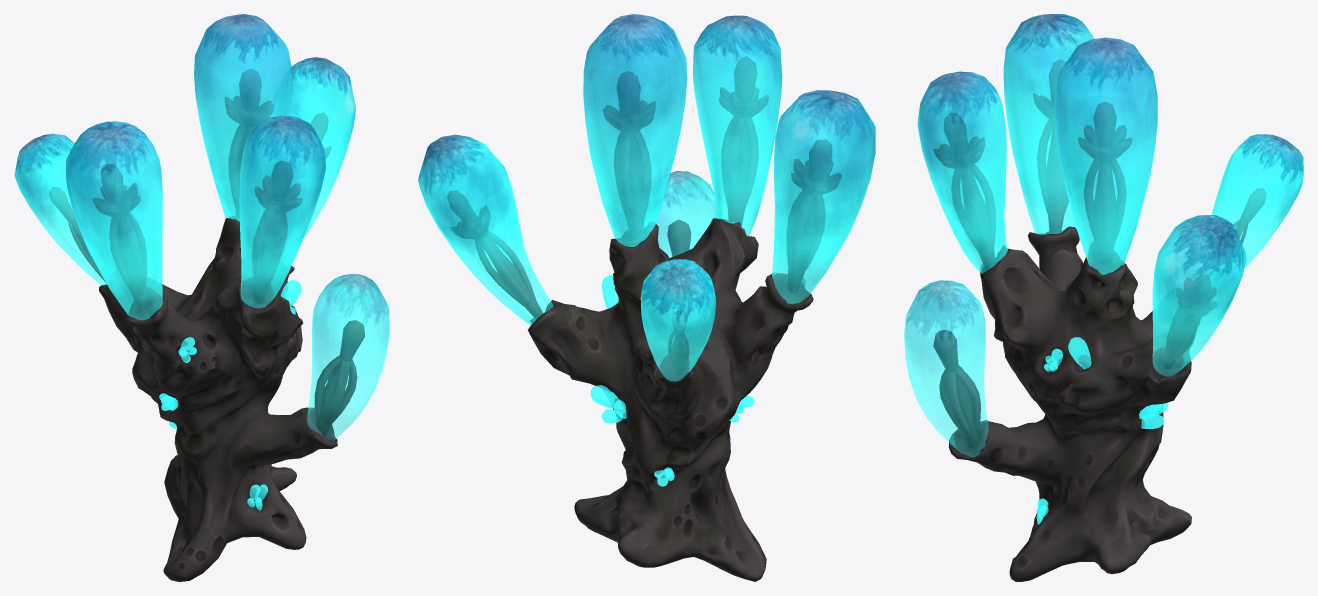
Rendered from space_plant.glb.
The picture shows the model from 3 angles, left to right: view 1: azimuth 30°, elevation 25°; view 2: azimuth 150°, elevation 25°; view 3: azimuth 270°, elevation 25°; orthographic projection. The views are drawn at different scales.
Visible parts, largest first — view 1: BigBulbs_LP, TreeBase_LP, InnerBulbs_LP, SmallBulbs_LP; view 2: BigBulbs_LP, TreeBase_LP, InnerBulbs_LP, SmallBulbs_LP; view 3: BigBulbs_LP, TreeBase_LP, InnerBulbs_LP, SmallBulbs_LP.
Part boxes in pixels (<box>): BigBulbs_LP: <box>14,14,389,440</box>; TreeBase_LP: <box>99,216,337,581</box>; InnerBulbs_LP: <box>49,69,364,436</box>; SmallBulbs_LP: <box>159,280,301,510</box>; BigBulbs_LP: <box>418,14,875,381</box>; TreeBase_LP: <box>528,218,813,581</box>; InnerBulbs_LP: <box>447,56,841,376</box>; SmallBulbs_LP: <box>590,275,754,486</box>; BigBulbs_LP: <box>904,14,1303,456</box>; TreeBase_LP: <box>948,226,1193,581</box>; InnerBulbs_LP: <box>933,59,1265,447</box>; SmallBulbs_LP: <box>1036,337,1168,524</box>.
Size of the model in its own units: 573 by 816 by 535.
Materials: 2 (2 with a texture image).
